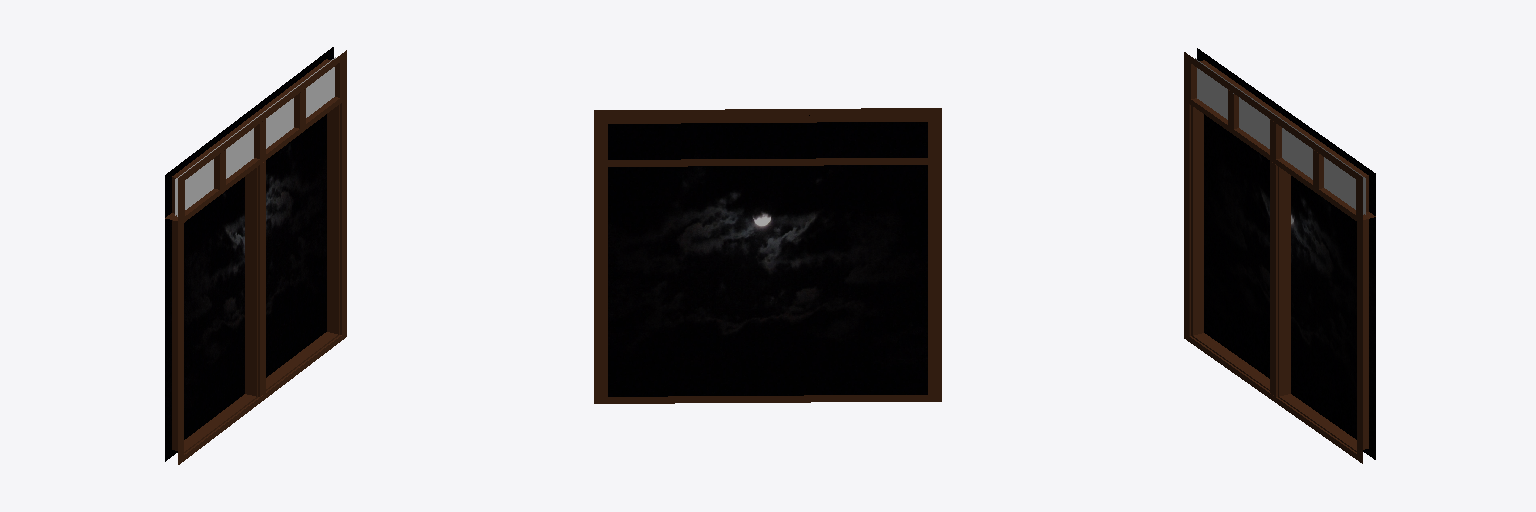
The picture shows the model from 3 angles: view 1: azimuth 30°, elevation 25°; view 2: azimuth 150°, elevation 25°; view 3: azimuth 270°, elevation 25°; orthographic projection.
Size of the model in its own units: 1.94 by 2 by 1.22.
3 materials, 1 textured.